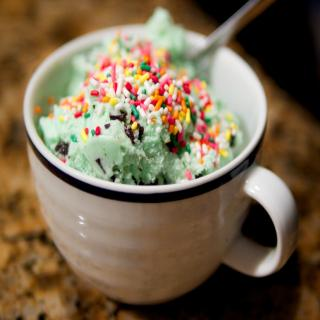Ice cream: (38, 8, 243, 184)
